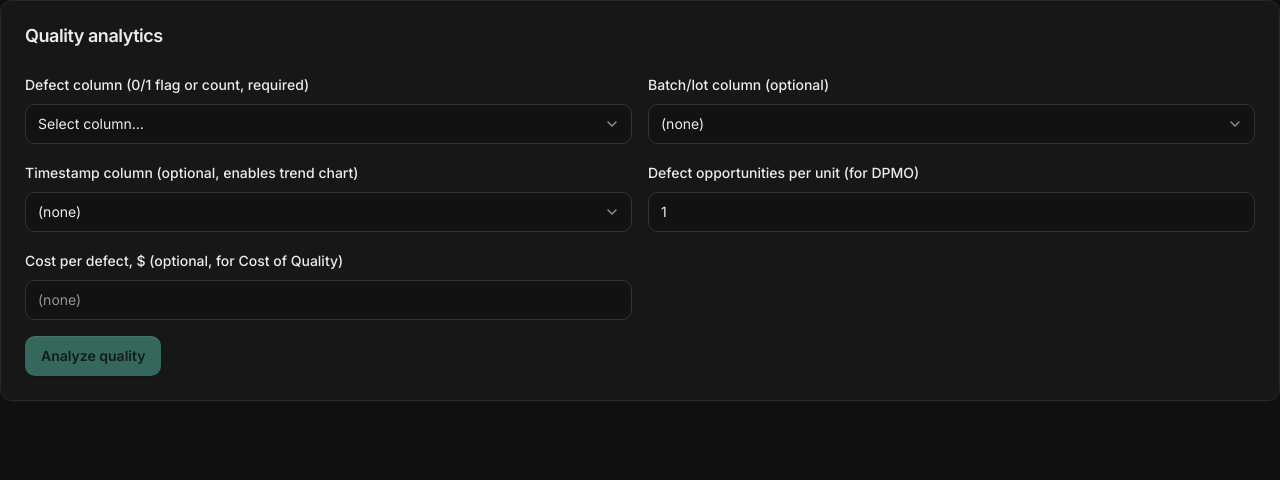
Scenario: QualityPanel › shows the server error
Step 1. Select "lot" in the 1st dropdown → (328, 124), box [25,104,632,144]
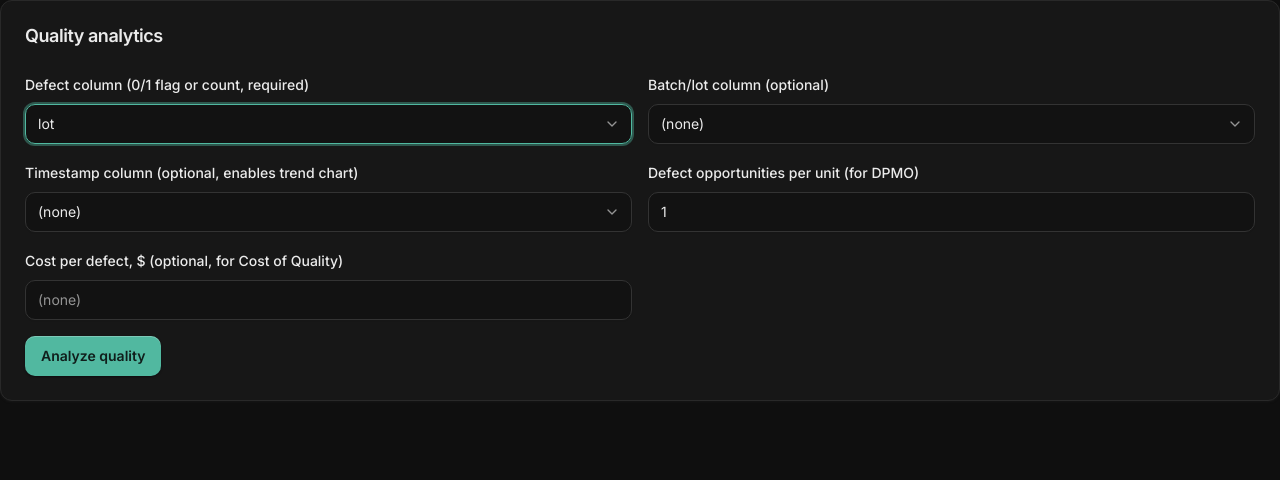
Step 2. Click the button "Analyze quality" → (93, 356), box [25,336,162,376]
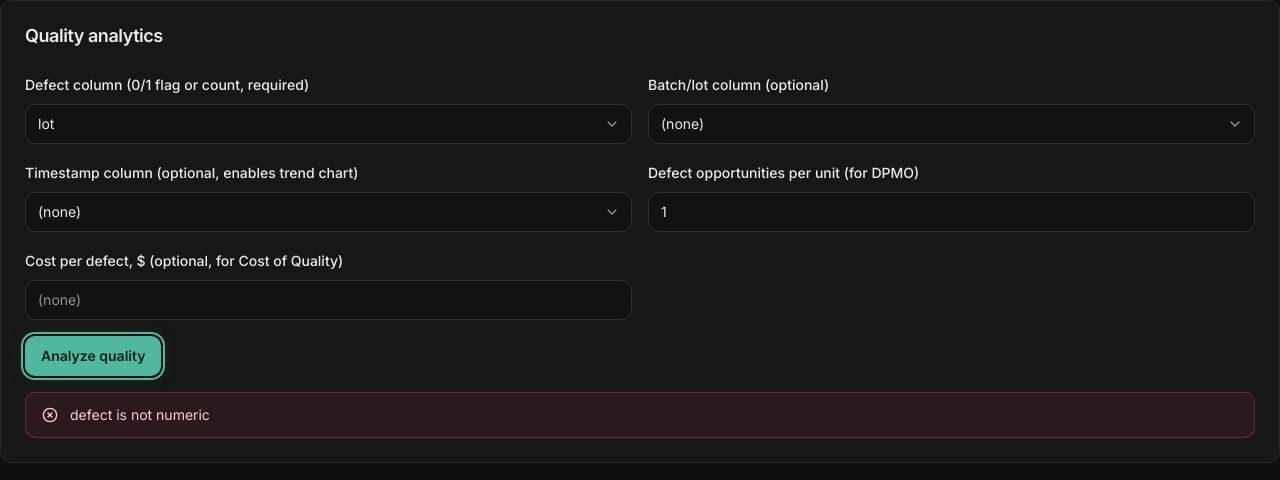
expect the text "defect is not numeric" is shown: met, box [70,404,210,424]
